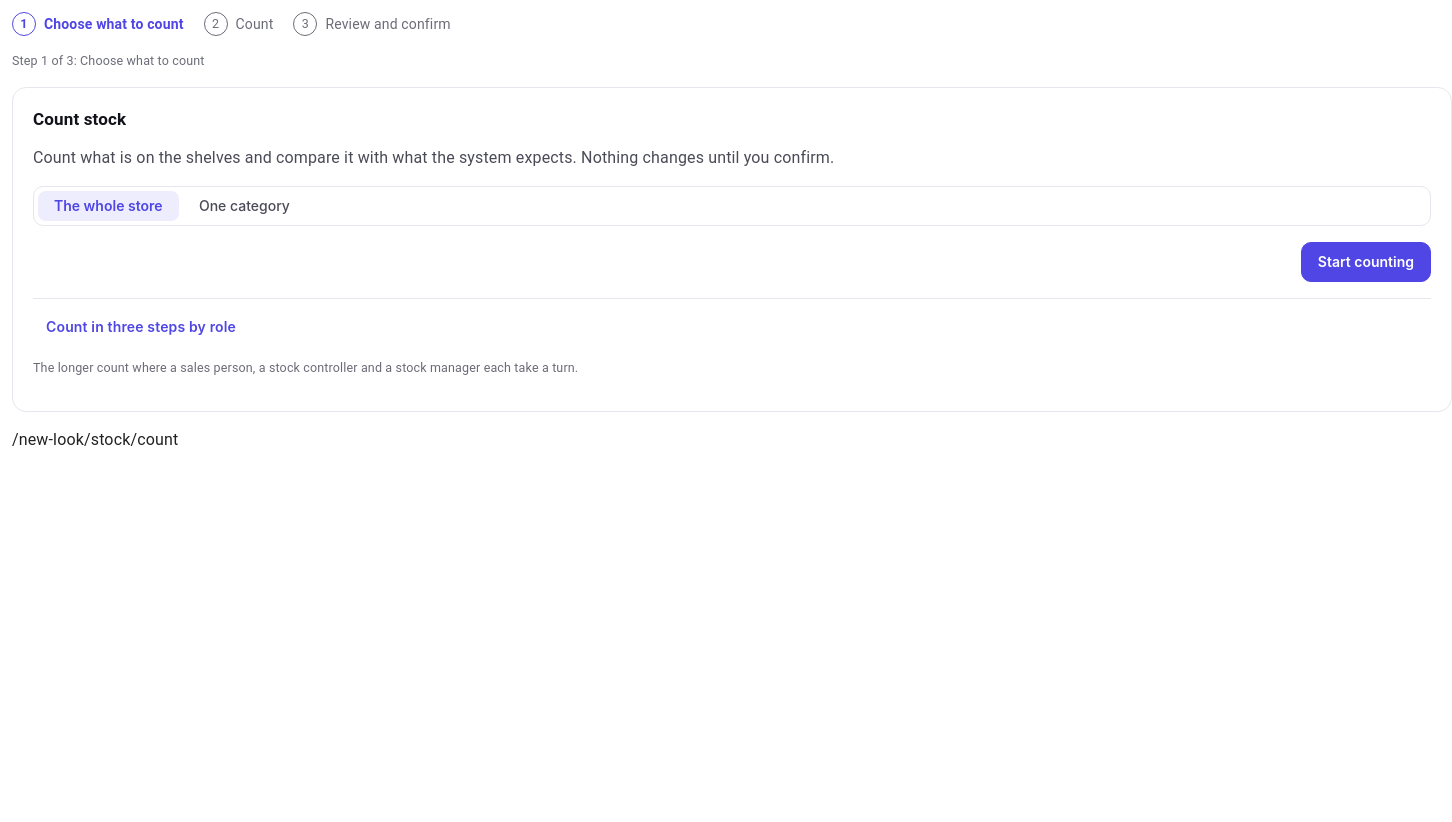
Scenario: step 1: what to count › counting the whole store asks the server for the whole store
This screenshot has width=1452, height=822.
Click the button "Start counting" at (1366, 262), box x1=1301 y1=242 x2=1431 y2=282
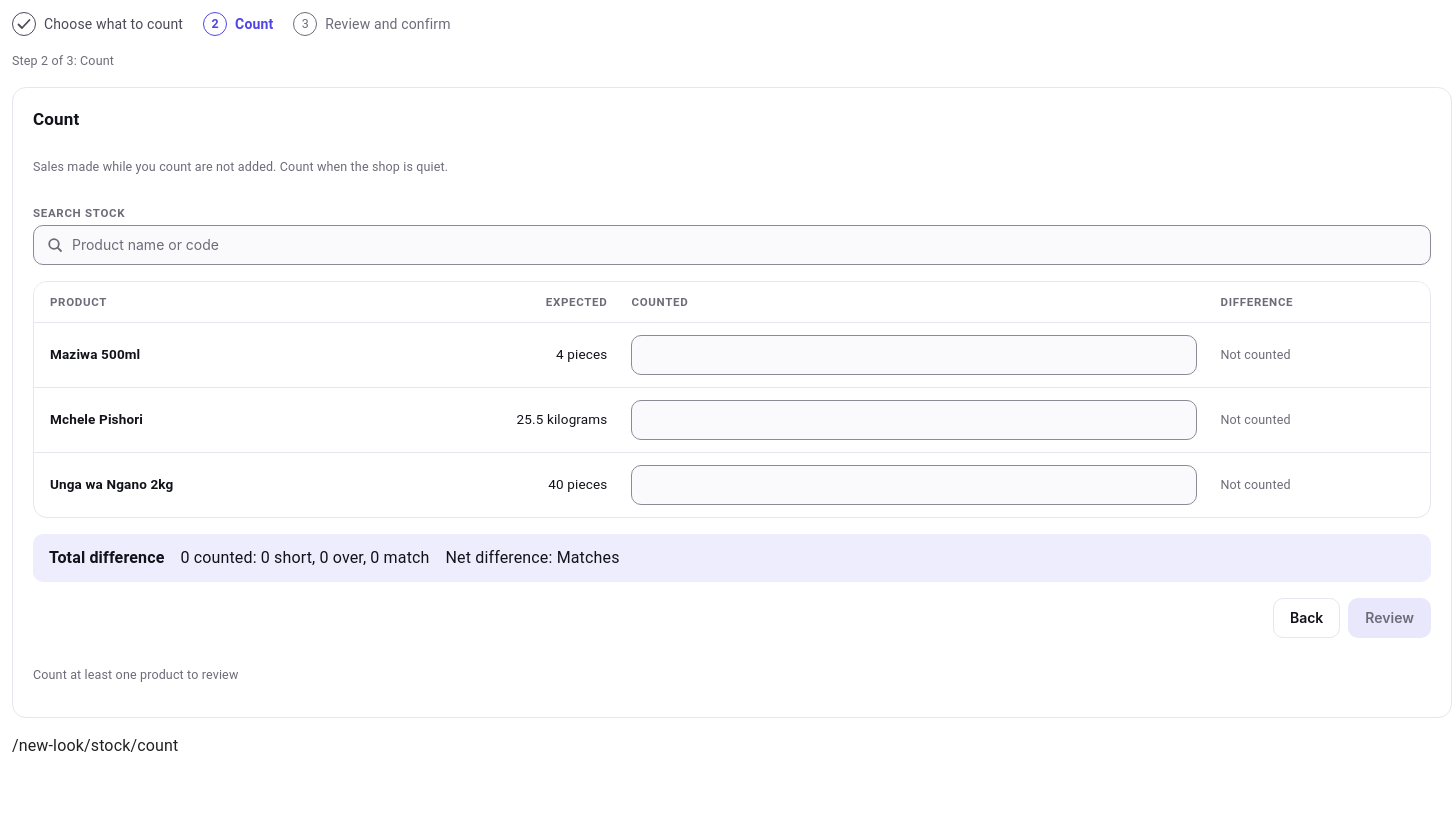
Expected: the field named "Counted: Maziwa 500ml" in the row of "Maziwa 500ml" is shown, x1=632 y1=336 x2=1196 y2=374
